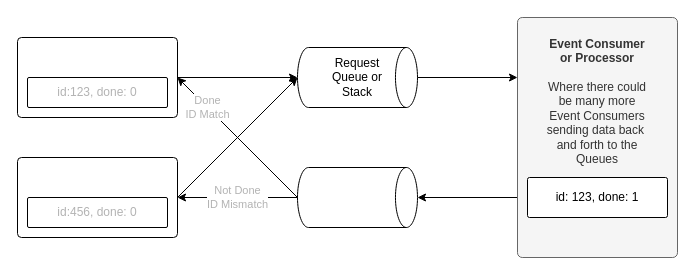
The diagram is 695 pixels wide and 275 high, and some of its shapes have lost their labels. The shapes that lost their labels are listed below. From the top down, each one's box as (x1, y1, x2, y2) in pixels, then its label:
(16, 36, 178, 118): Event Producer where id=123
(16, 156, 178, 238): Event Producer where id=456
(296, 166, 418, 228): Reply Queue or Stack
